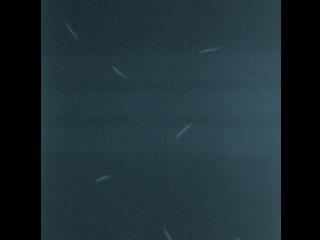scratch: (88, 166, 120, 189), (169, 118, 197, 144), (59, 17, 84, 46), (105, 61, 134, 85), (194, 40, 228, 59), (156, 223, 174, 240)
